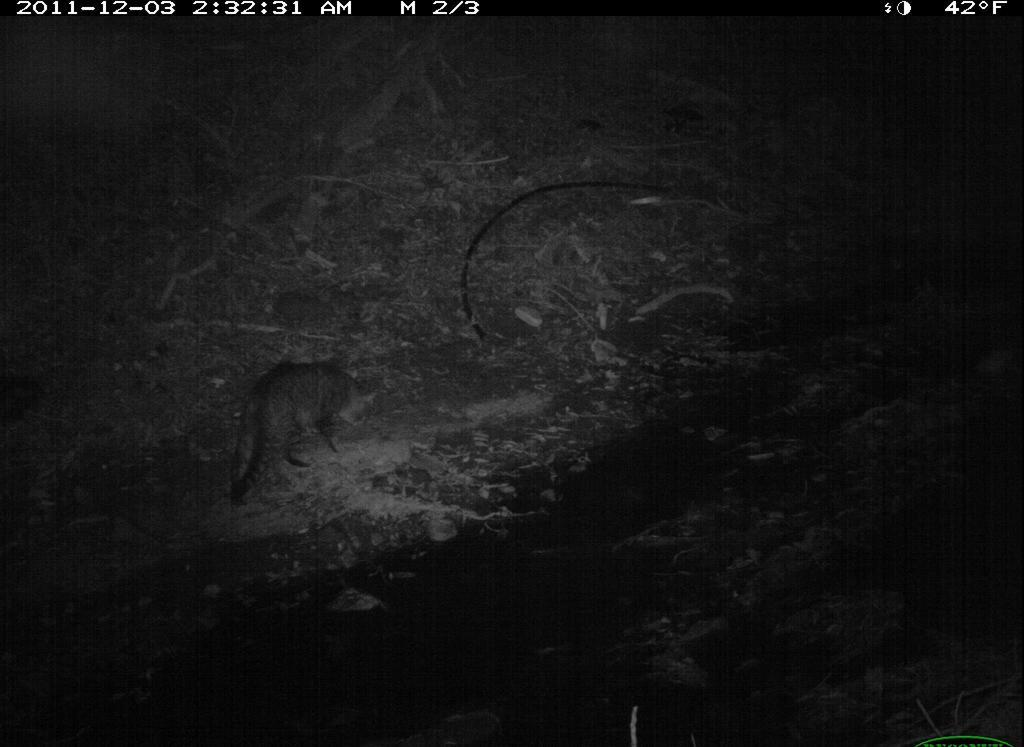cat: (223, 351, 387, 493)
